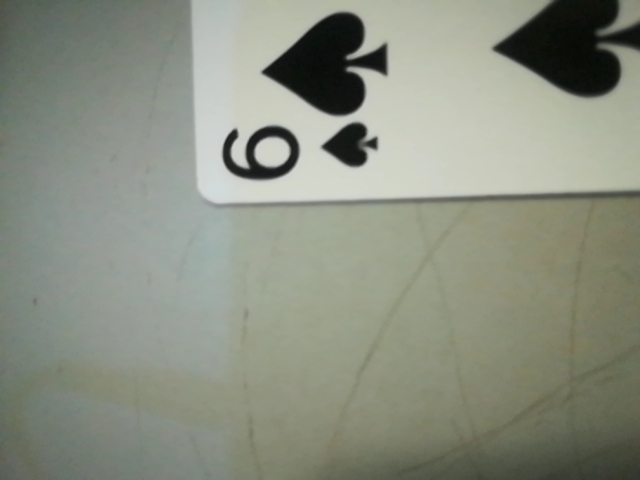ht 6: (206, 101, 395, 199)
